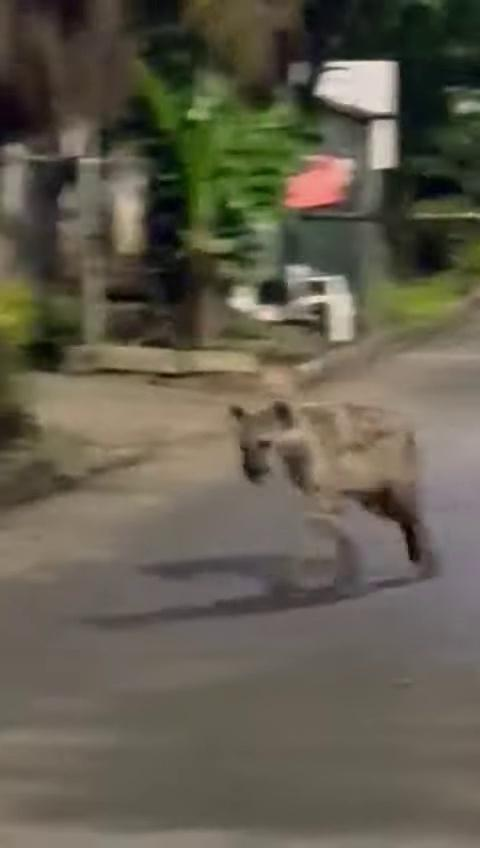hyenas: (215, 384, 477, 620)
